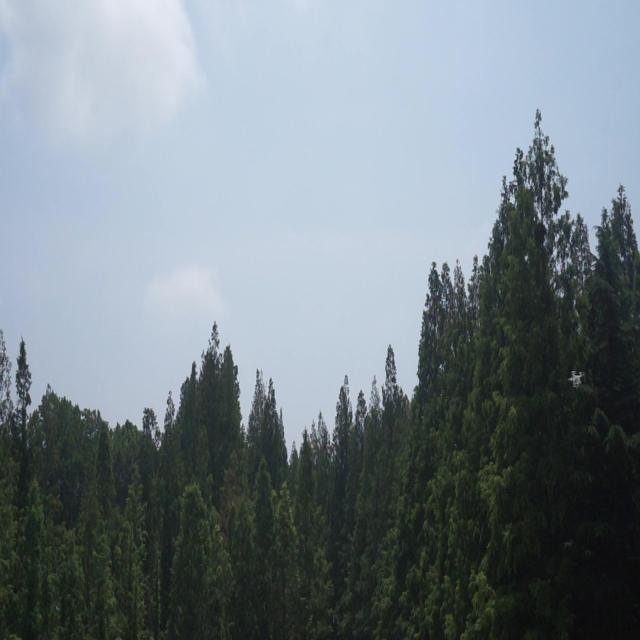drone: (565, 366, 587, 390)
